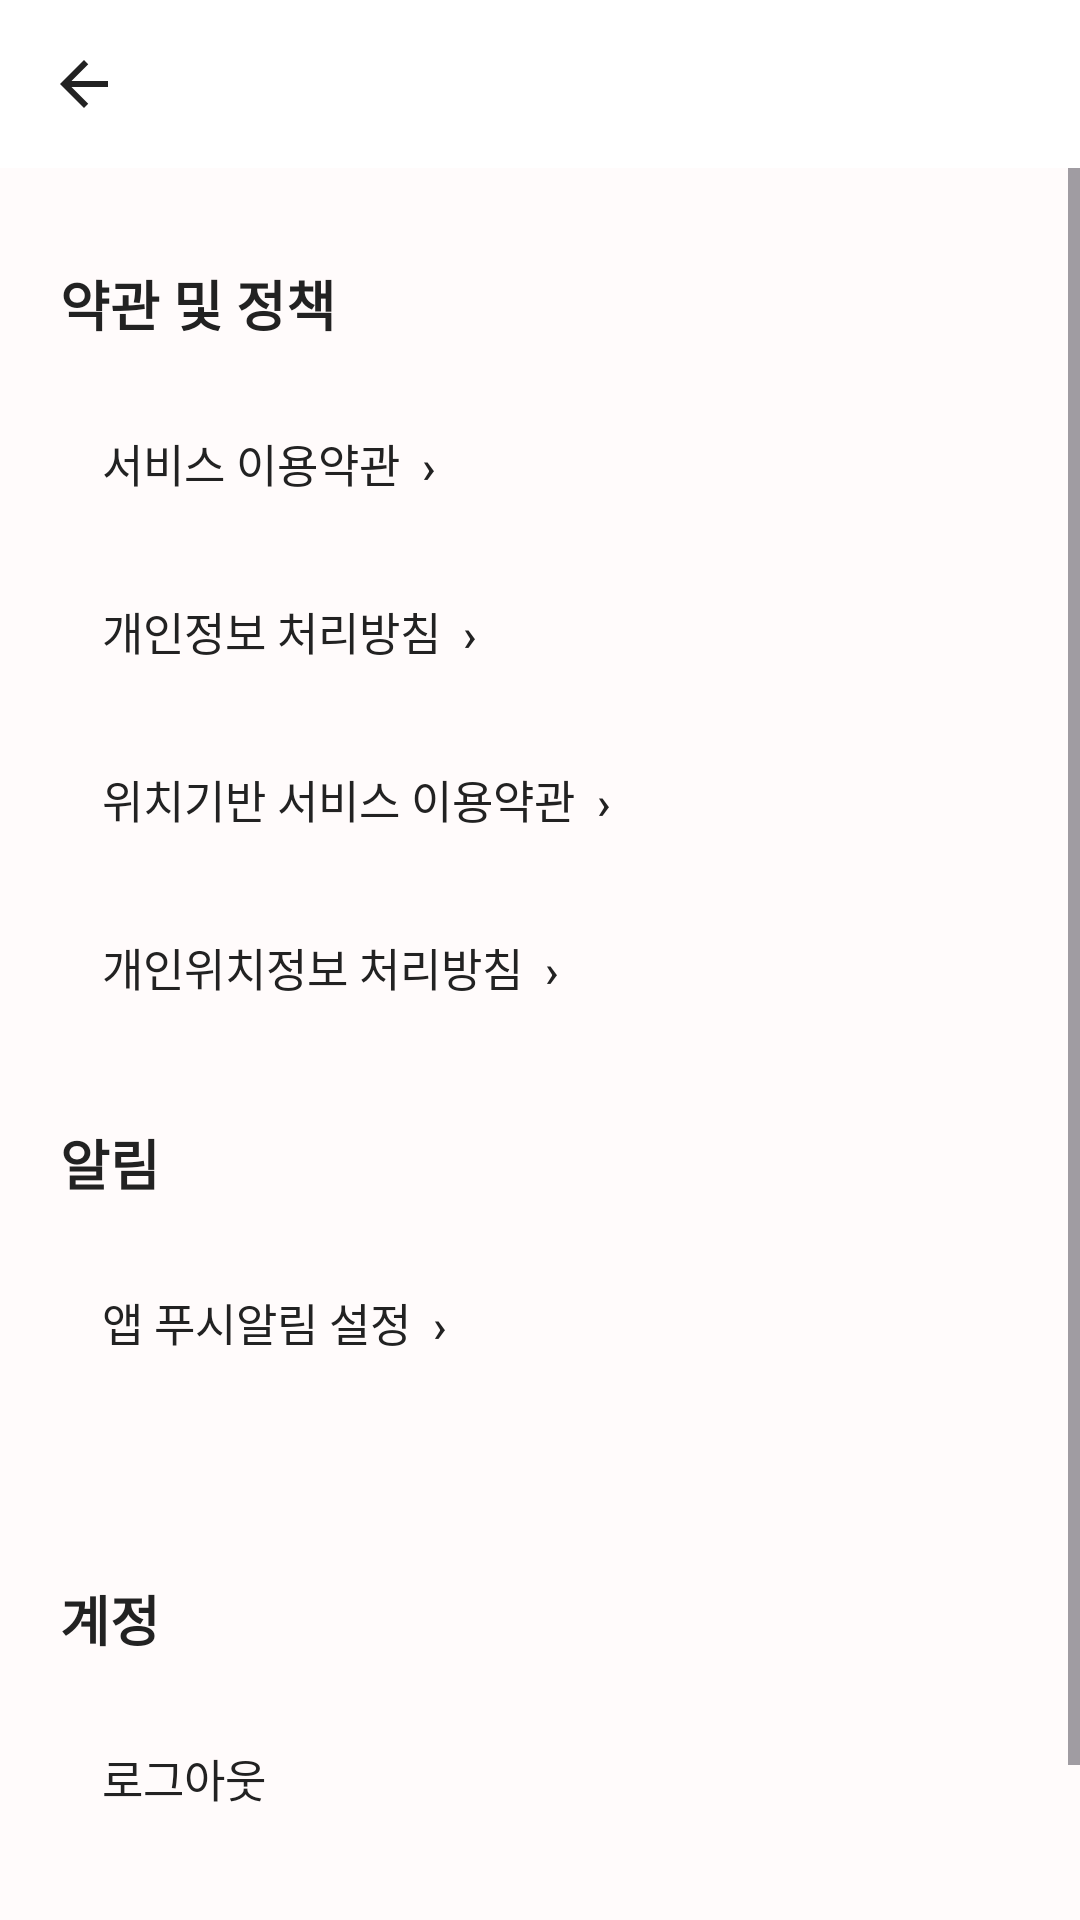

Point at icon controls on the screen. Image size 1080*1920, points as (x=x, y=y).
돌아가기: (x=84, y=84)
